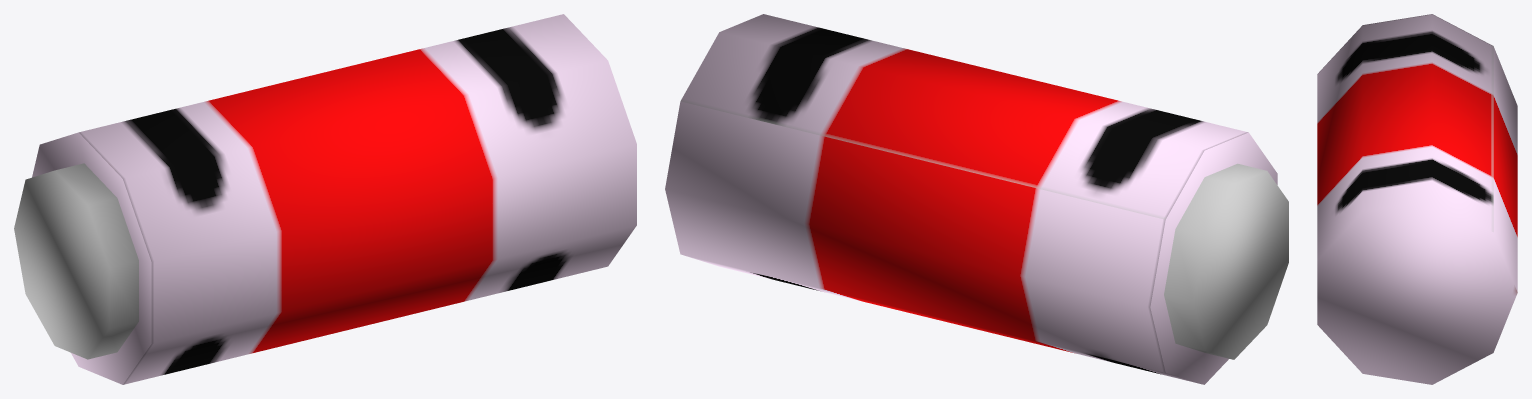
File: Battery1.fbx
The picture shows the model from 3 angles, left to right: view 1: azimuth 30°, elevation 25°; view 2: azimuth 150°, elevation 25°; view 3: azimuth 270°, elevation 25°; orthographic projection. The views are drawn at different scales.
Parts seen in each view (by area): view 1: Cylinder; view 2: Cylinder; view 3: Cylinder.
Part boxes in pixels (box(x1,y1,x2,y2)): Cylinder: box(14, 14, 636, 384); Cylinder: box(665, 14, 1288, 384); Cylinder: box(1317, 14, 1517, 384).
Bounding box in the file's own units: 62.13 × 27.17 × 26.75.
Materials: 1 (1 with a texture image).
